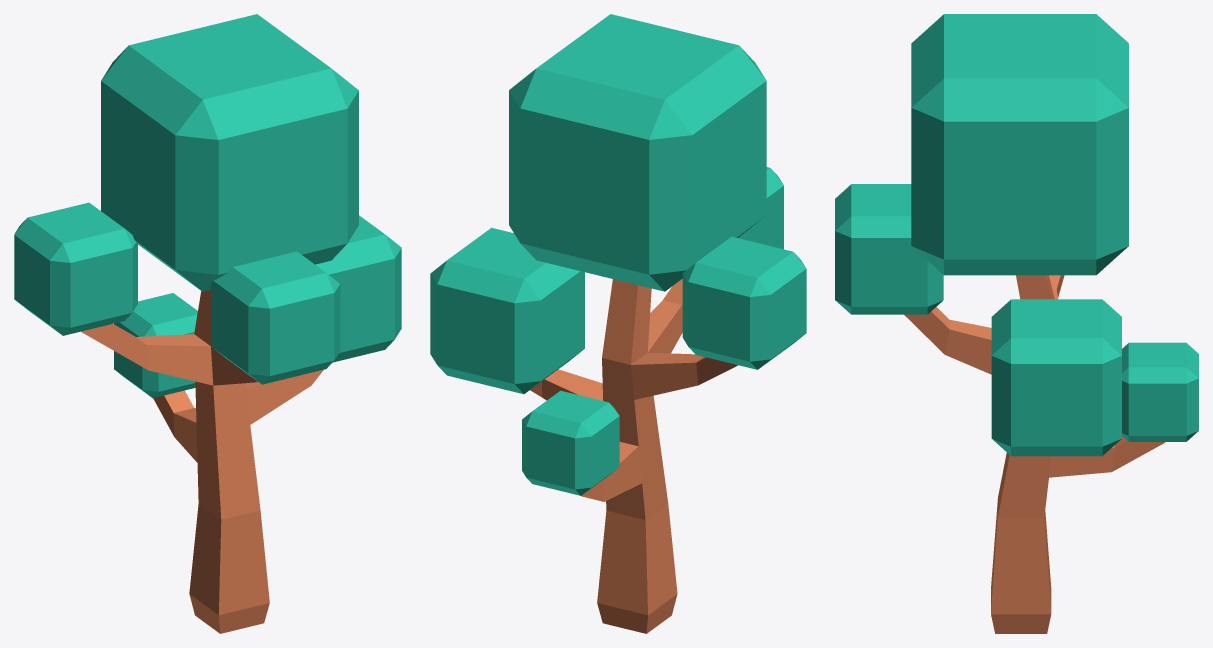
Rendered from tree-detailed.glb.
3 renders of one model, left to right at view 1: azimuth 30°, elevation 25°; view 2: azimuth 150°, elevation 25°; view 3: azimuth 270°, elevation 25°, orthographic. The views are drawn at different scales.
Visible parts, largest first — view 1: tree_detailed; view 2: tree_detailed; view 3: tree_detailed.
Boxes of the visible parts, <box> form: tree_detailed: <box>14,14,401,633</box>; tree_detailed: <box>430,14,806,633</box>; tree_detailed: <box>835,14,1198,633</box>.
Bounding box in the file's own units: 0.8471 × 1.33 × 0.7616.
